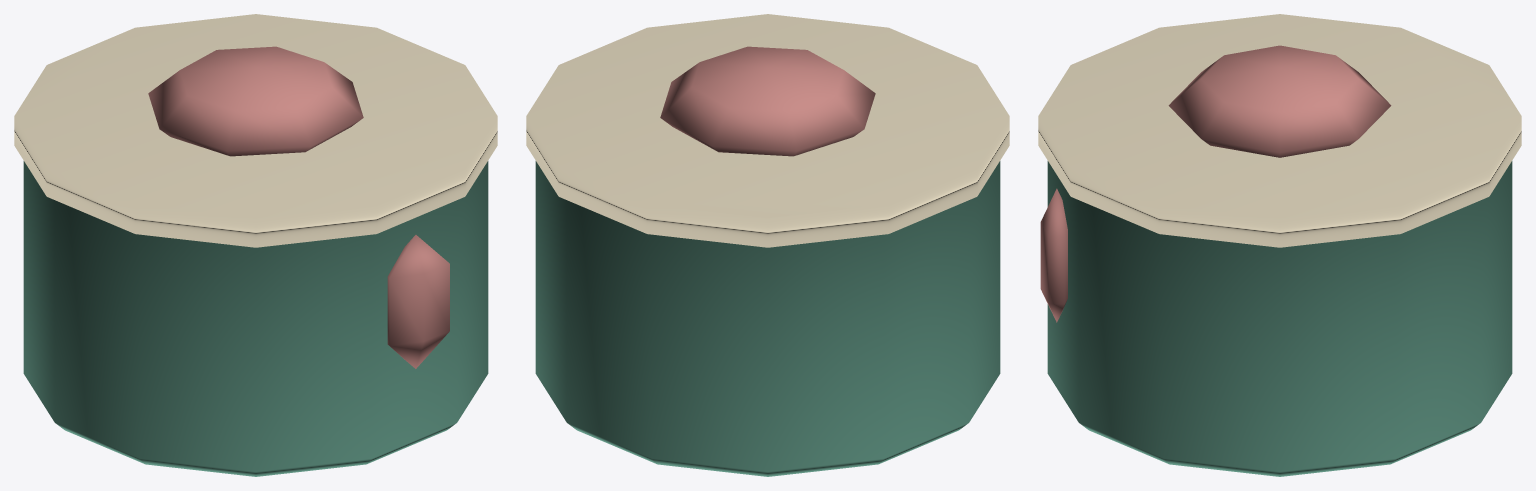
Rendered from cargo_icecream_melted.glb.
The picture shows the model from 3 angles, left to right: view 1: azimuth 30°, elevation 25°; view 2: azimuth 150°, elevation 25°; view 3: azimuth 270°, elevation 25°; orthographic projection.
Parts seen in each view (by area): view 1: cargo_icecream_melted; view 2: cargo_icecream_melted; view 3: cargo_icecream_melted.
Part boxes in pixels (x1=…): cargo_icecream_melted: x1=14, y1=14, x2=497, y2=476; cargo_icecream_melted: x1=526, y1=14, x2=1009, y2=476; cargo_icecream_melted: x1=1038, y1=14, x2=1521, y2=476.
Bounding box in the file's own units: 0.52 × 0.375 × 0.52.
